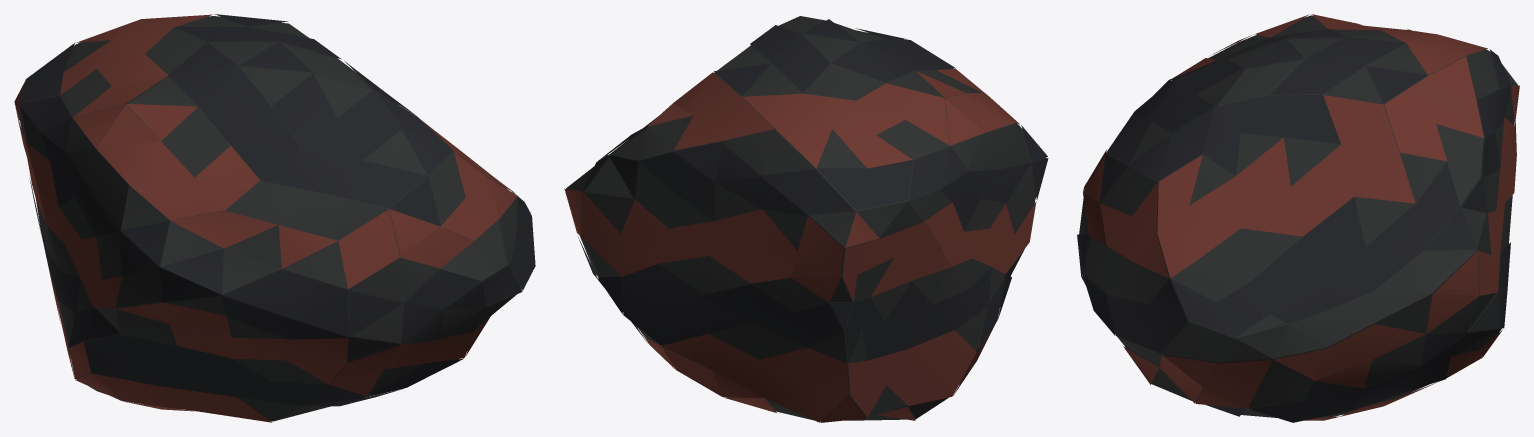
Rendered from ore_iron_web.glb.
The picture shows the model from 3 angles, left to right: view 1: azimuth 30°, elevation 25°; view 2: azimuth 150°, elevation 25°; view 3: azimuth 270°, elevation 25°; orthographic projection. The views are drawn at different scales.
Visible parts, largest first — view 1: iron_magnetite_bands, iron_matrix, iron_hematite_bands; view 2: iron_hematite_bands, iron_magnetite_bands, iron_matrix; view 3: iron_magnetite_bands, iron_matrix, iron_hematite_bands.
Part boxes in pixels (x1,y1,x2,y2): iron_magnetite_bands: (19,14,535,406); iron_matrix: (19,16,521,421); iron_hematite_bands: (14,14,517,422); iron_hematite_bands: (564,68,1036,422); iron_magnetite_bands: (578,19,1048,363); iron_matrix: (566,16,1046,421); iron_magnetite_bands: (1077,29,1510,422); iron_matrix: (1079,15,1518,417); iron_hematite_bands: (1083,14,1519,420).
Bounding box in the file's own units: 1.06 × 0.8707 × 1.02.
